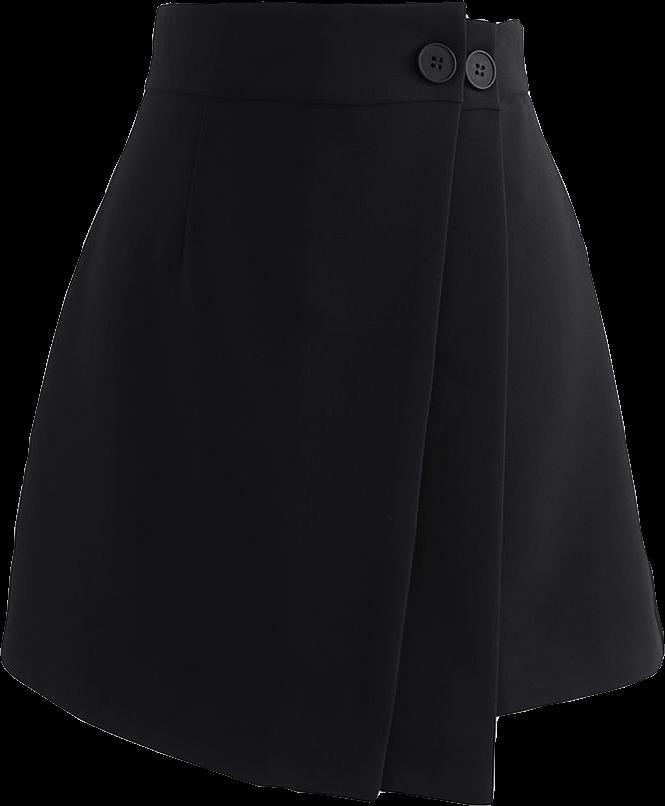Hemline: (0, 8, 472, 805), (385, 19, 522, 805), (497, 664, 664, 721)
Waistline: (139, 84, 532, 115), (156, 0, 522, 30)
